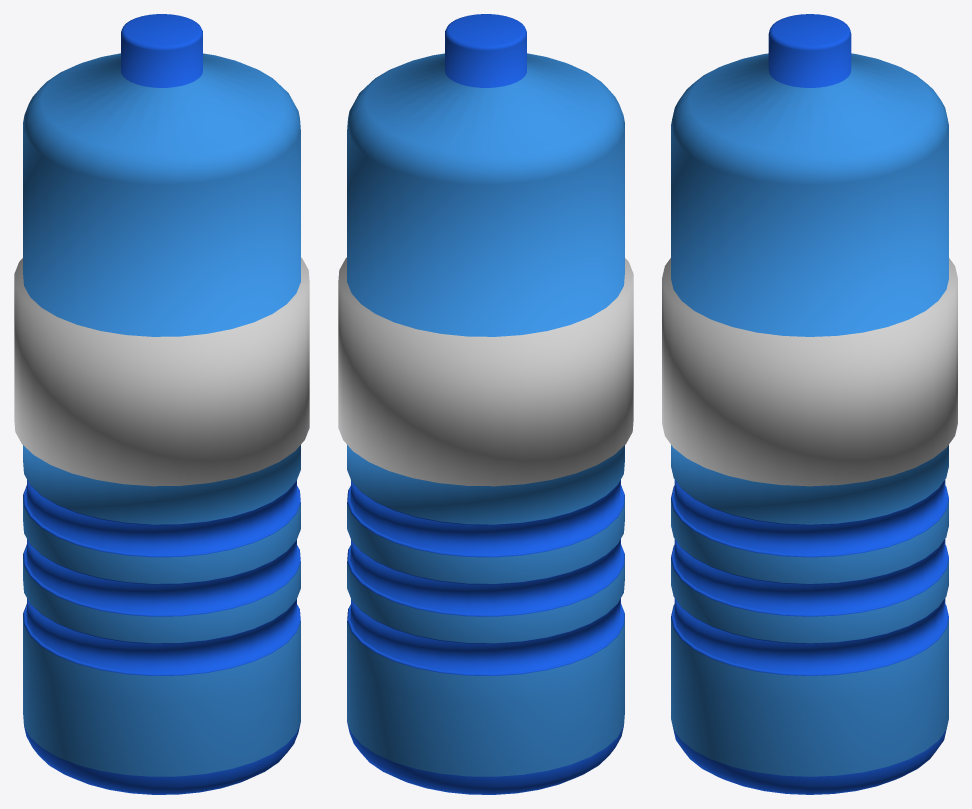
Rendered from botella.glb.
3 renders of one model, left to right at view 1: azimuth 30°, elevation 25°; view 2: azimuth 150°, elevation 25°; view 3: azimuth 270°, elevation 25°, orthographic.
Visible parts, largest first — view 1: Cylinder; view 2: Cylinder; view 3: Cylinder.
Boxes of the visible parts, <box> form: Cylinder: <box>14,14,309,794</box>; Cylinder: <box>338,14,633,794</box>; Cylinder: <box>662,14,957,794</box>.
Bounding box in the file's own units: 2.13 × 5.68 × 2.13.
